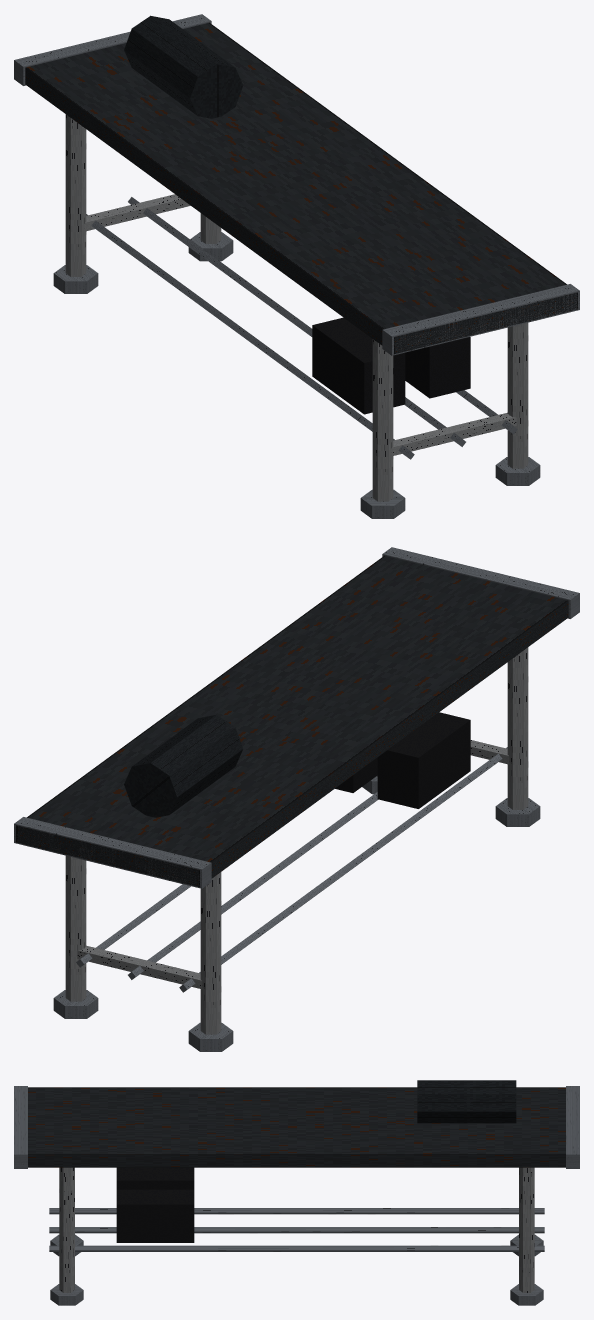
The model's file is locker_bench_medbay_clean.glb.
3 renders of one model, top to bottom at view 1: azimuth 30°, elevation 25°; view 2: azimuth 150°, elevation 25°; view 3: azimuth 270°, elevation 25°, orthographic. The views are drawn at different scales.
Parts seen in each view (by area): view 1: locker_bench_medbay_clean; view 2: locker_bench_medbay_clean; view 3: locker_bench_medbay_clean.
Boxes of the visible parts, x1,y1,x2,y2 form: locker_bench_medbay_clean: (14,14,579,518); locker_bench_medbay_clean: (14,547,579,1051); locker_bench_medbay_clean: (14,1080,579,1305).
Size of the model in its own units: 0.46 by 0.605 by 1.6.
5 materials, 5 textured.
